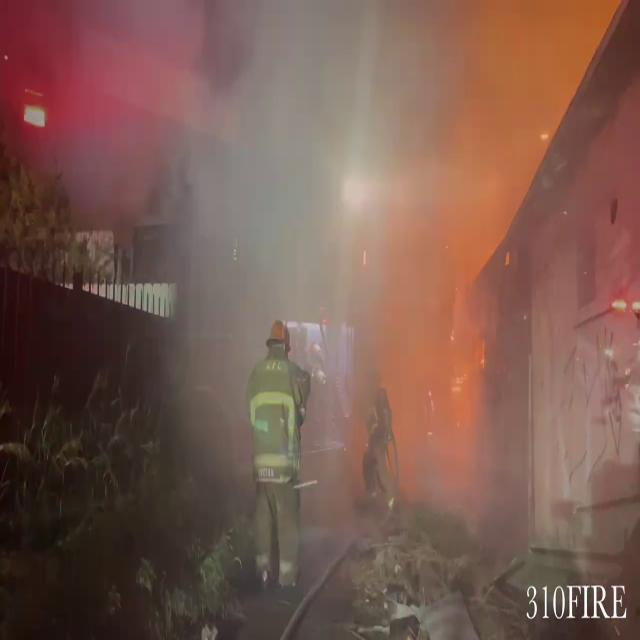Smoke: (138, 1, 634, 563)
